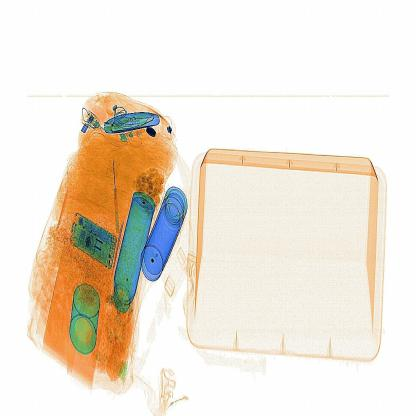wrench: (106, 152, 123, 233)
